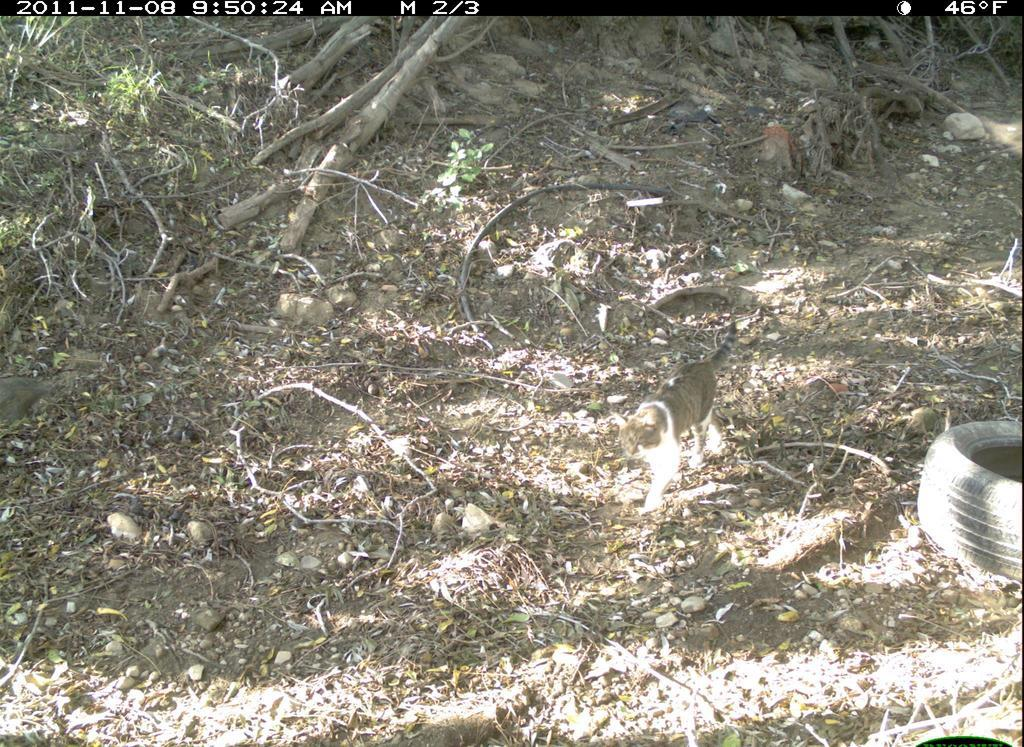cat: (600, 304, 753, 521)
